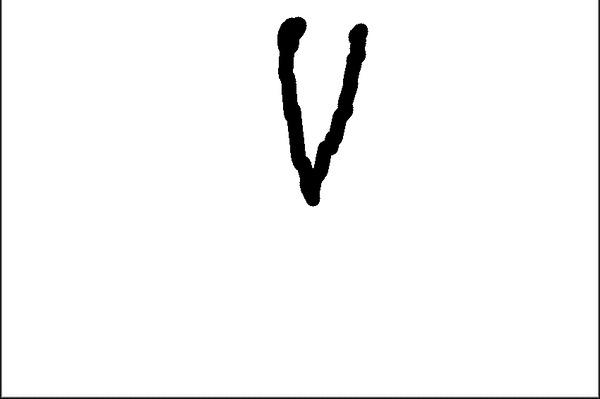V: (273, 10, 371, 209)
